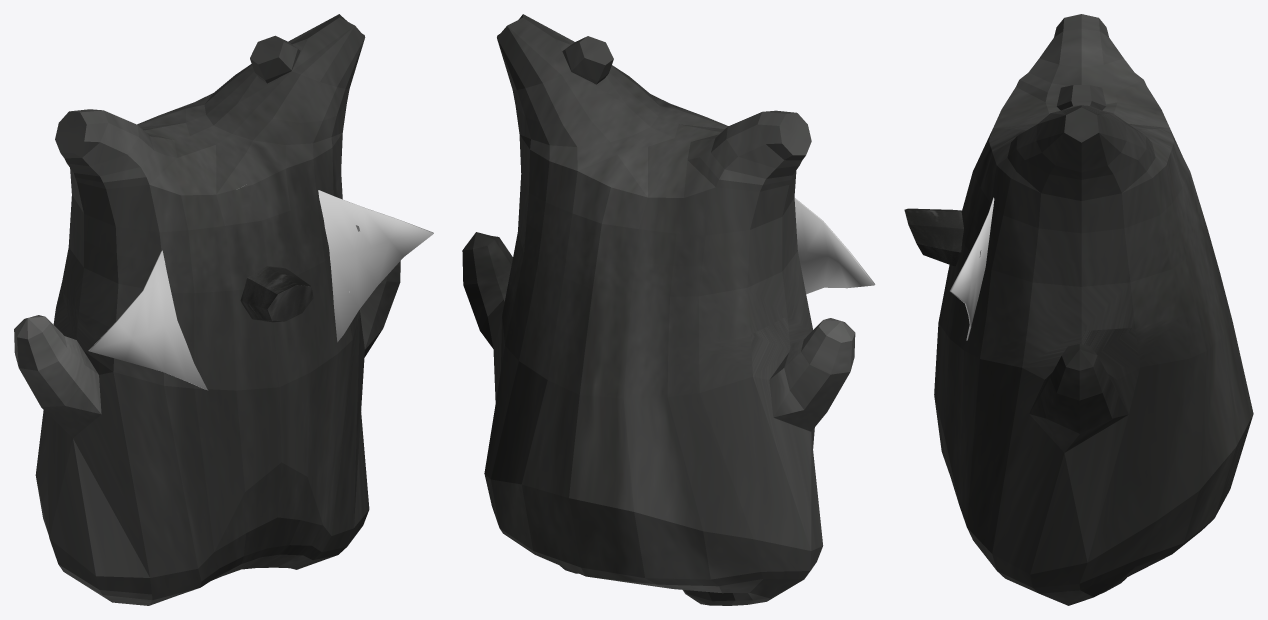
File: frame_0055.obj
The picture shows the model from 3 angles, left to right: view 1: azimuth 30°, elevation 25°; view 2: azimuth 150°, elevation 25°; view 3: azimuth 270°, elevation 25°; orthographic projection. The views are drawn at different scales.
Parts seen in each view (by area): view 1: korok, leaf, nose; view 2: korok, leaf; view 3: korok, nose, leaf.
Boxes of the visible parts, x1,y1,x2,y2 form: korok: (14, 14, 400, 605); leaf: (88, 190, 433, 390); nose: (240, 266, 313, 322); korok: (462, 14, 855, 605); leaf: (794, 198, 875, 294); korok: (934, 14, 1253, 605); nose: (904, 208, 963, 266); leaf: (950, 197, 994, 340).
Size of the model in its own units: 1.55 by 2.05 by 1.26.
